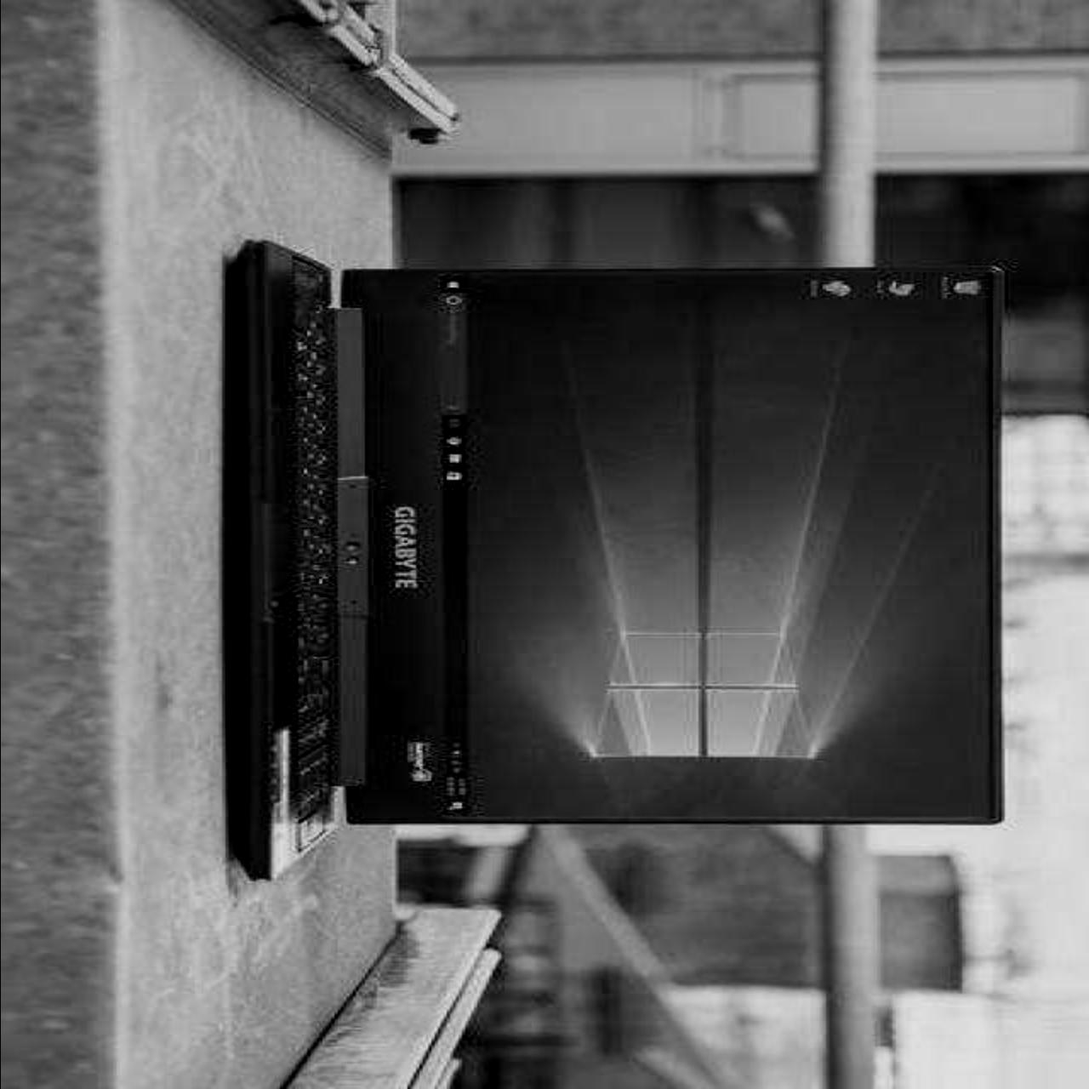laptop: (250, 272, 989, 824)
